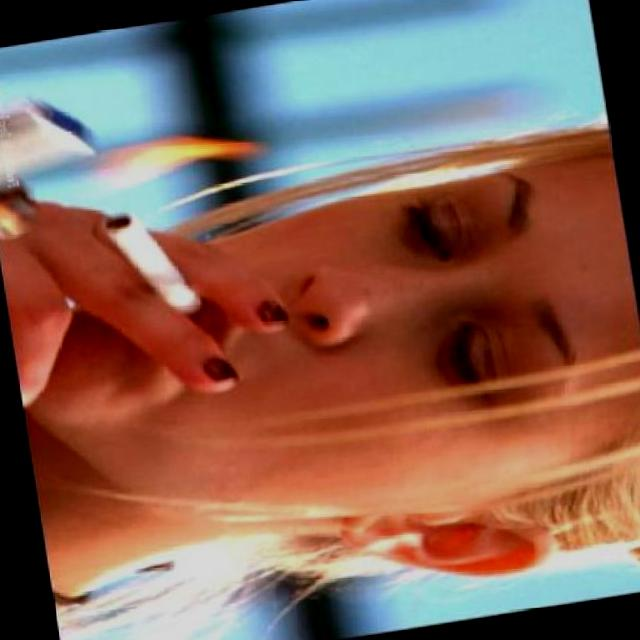cigarette: (96, 200, 206, 338)
